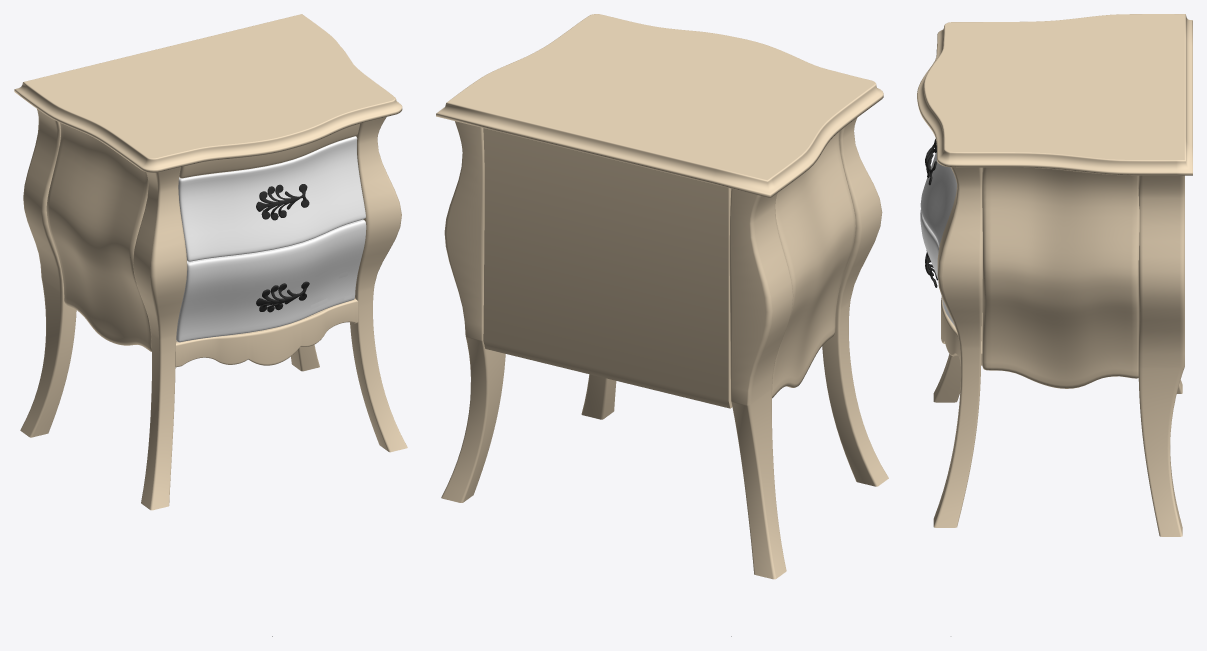
Rendered from Sardinia.FBX.fbx.
3 renders of one model, left to right at view 1: azimuth 30°, elevation 25°; view 2: azimuth 150°, elevation 25°; view 3: azimuth 270°, elevation 25°, orthographic. The views are drawn at different scales.
Visible parts, largest first — view 1: cover, leg01, left, Top box, Bottom box, leg03, decor, Group001, Hundle-01, Hundle-03; view 2: back, cover, leg03, left, leg01; view 3: cover, left, leg03, leg01, Top box, decor, Bottom box.
Boxes of the visible parts, box(x1,y1,x2,y2) form: cover: box(14, 14, 402, 172); leg01: box(133, 117, 407, 510); left: box(46, 123, 151, 351); Top box: box(178, 136, 365, 261); Bottom box: box(176, 219, 366, 342); leg03: box(20, 109, 319, 437); decor: box(175, 298, 358, 367); Group001: box(179, 123, 359, 178); Hundle-01: box(256, 184, 309, 220); Hundle-03: box(256, 281, 309, 312); back: box(483, 128, 732, 408); cover: box(436, 14, 883, 197); leg03: box(441, 121, 793, 579); left: box(772, 132, 855, 398); leg01: box(581, 118, 888, 486); cover: box(917, 14, 1192, 175); left: box(982, 167, 1139, 388); leg03: box(1138, 175, 1184, 536); leg01: box(933, 167, 982, 527); Top box: box(920, 152, 956, 245); decor: box(941, 296, 960, 365); Bottom box: box(920, 210, 954, 325).
Bounding box in the file's own units: 544 × 910 × 414.
